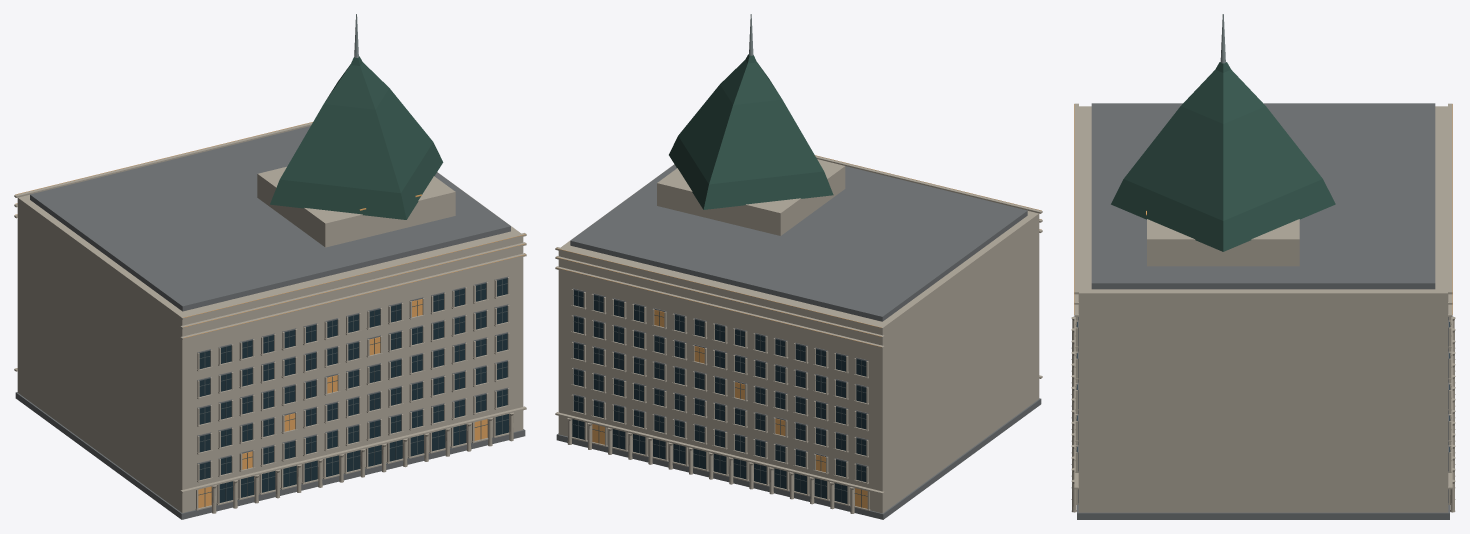
The model's file is peace_near.glb.
3 views of the same model, side by side, from view 1: azimuth 30°, elevation 25°; view 2: azimuth 150°, elevation 25°; view 3: azimuth 270°, elevation 25° (orthographic). The views are drawn at different scales.
Visible parts, largest first — view 1: Limestone, Plinth, GlassDark, Copper, Steel, NightWarm; view 2: Limestone, Plinth, GlassDark, Copper, Steel, NightWarm; view 3: Limestone, Plinth, Copper.
Boxes of the visible parts, <box> form: Limestone: <box>14,122,526,513</box>; Plinth: <box>15,126,525,519</box>; GlassDark: <box>199,278,508,502</box>; Copper: <box>270,56,443,219</box>; Steel: <box>198,279,508,506</box>; NightWarm: <box>15,122,525,508</box>; Limestone: <box>555,155,1042,513</box>; Plinth: <box>556,164,1041,519</box>; GlassDark: <box>572,290,866,503</box>; Copper: <box>669,54,833,209</box>; Steel: <box>572,291,867,507</box>; NightWarm: <box>556,155,1041,508</box>; Limestone: <box>1071,103,1455,512</box>; Plinth: <box>1077,103,1449,519</box>; Copper: <box>1111,62,1335,251</box>.
Bounding box in the file's own units: 55.55 × 61.6 × 47.76.
